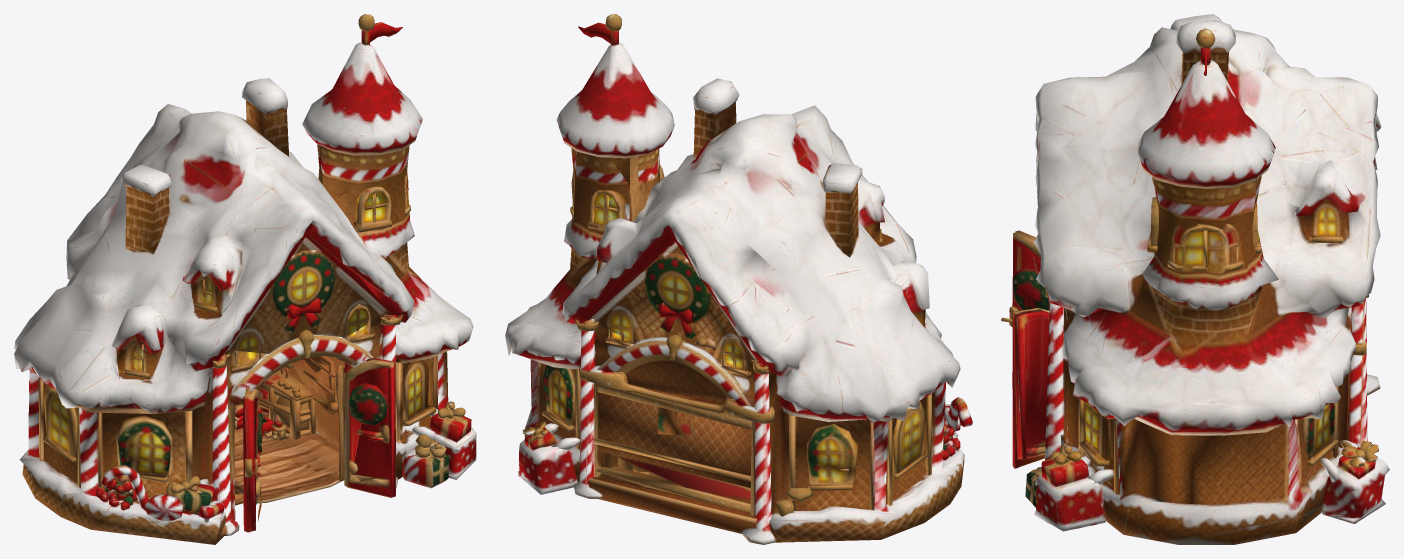
The model's file is AW-XMAS-WORKSHOP-001-v0.2.glb.
The picture shows the model from 3 angles, left to right: view 1: azimuth 30°, elevation 25°; view 2: azimuth 150°, elevation 25°; view 3: azimuth 270°, elevation 25°; orthographic projection. The views are drawn at different scales.
Visible parts, largest first — view 1: AW-XMAS-WORKSHOP-001_meter_ground_pivot; view 2: AW-XMAS-WORKSHOP-001_meter_ground_pivot; view 3: AW-XMAS-WORKSHOP-001_meter_ground_pivot.
Boxes of the visible parts, box(x1,y1,x2,y2) form: AW-XMAS-WORKSHOP-001_meter_ground_pivot: box(14, 14, 476, 544); AW-XMAS-WORKSHOP-001_meter_ground_pivot: box(505, 14, 972, 544); AW-XMAS-WORKSHOP-001_meter_ground_pivot: box(1001, 14, 1389, 544).
Bounding box in the file's own units: 10 × 10 × 7.36.
Materials: 1 (1 with a texture image).
